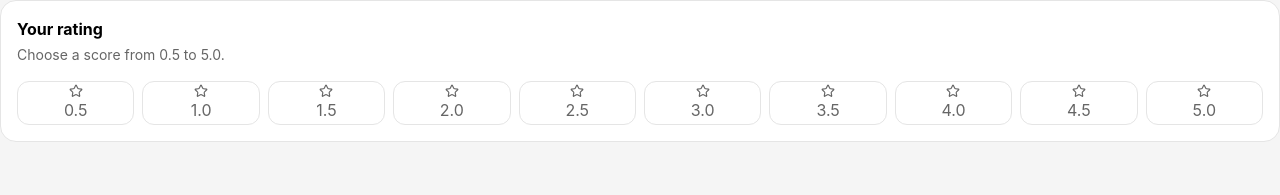
Test: RatingControl › shows a safe error and re-enables the scale after a failed rating
Step 1. Click the radio button named "Rate 4.5 out of 5" → (1079,103), box [1020,81,1138,125]
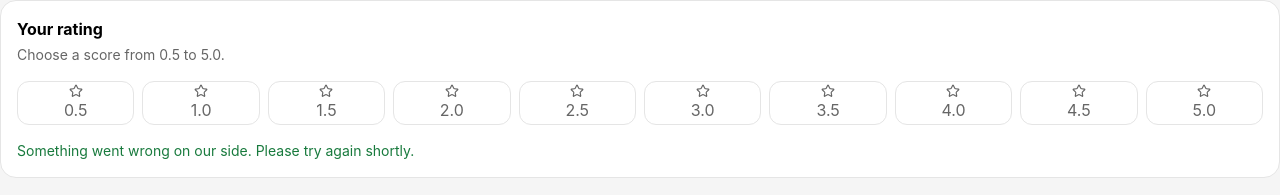
Now the text "Something went wrong on our side. Please try again shortly." is shown, box [17,142,414,159]
